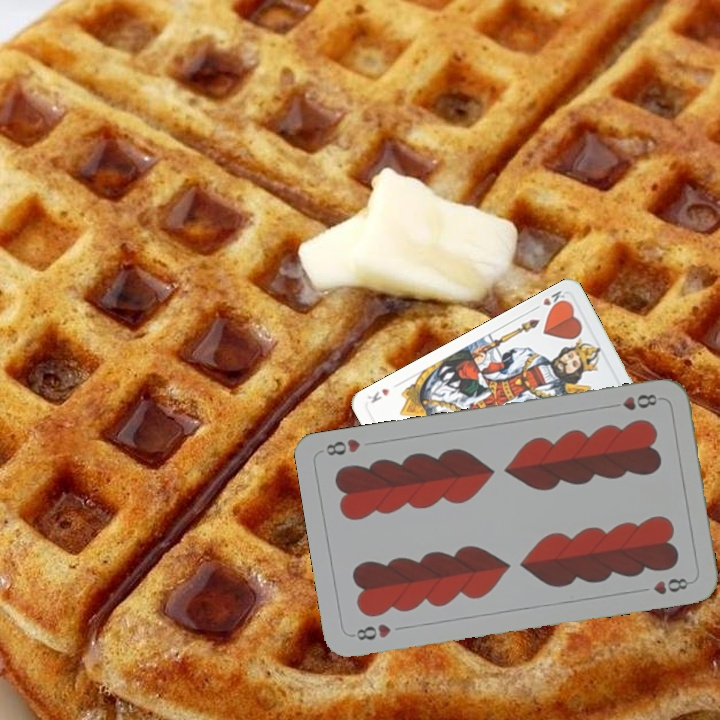H8: (605, 390, 664, 413), (348, 620, 394, 643)
HK: (529, 286, 570, 313)
